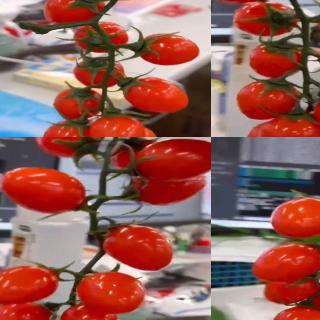tomato: (0, 165, 86, 213), (102, 224, 174, 272), (135, 140, 211, 184), (78, 270, 148, 313), (130, 171, 209, 205), (236, 80, 302, 120), (122, 76, 189, 115), (232, 2, 300, 38), (0, 265, 60, 305), (138, 32, 202, 65), (249, 40, 303, 78), (73, 21, 130, 52), (42, 0, 105, 27), (53, 88, 104, 121), (74, 57, 126, 89), (115, 137, 164, 170), (31, 137, 103, 159), (87, 113, 145, 137), (259, 116, 320, 137), (43, 119, 100, 137), (244, 119, 299, 137), (61, 303, 119, 320), (0, 302, 52, 320), (104, 125, 161, 137)
